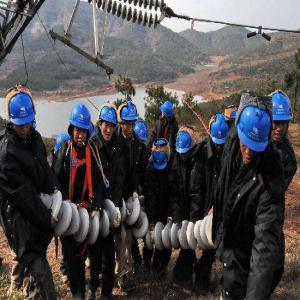blue: (238, 95, 270, 167), (7, 88, 36, 139), (269, 93, 293, 143), (71, 104, 91, 150), (208, 113, 229, 154), (98, 103, 117, 142), (176, 125, 195, 164), (153, 138, 170, 177), (121, 101, 138, 139), (160, 101, 174, 123)
